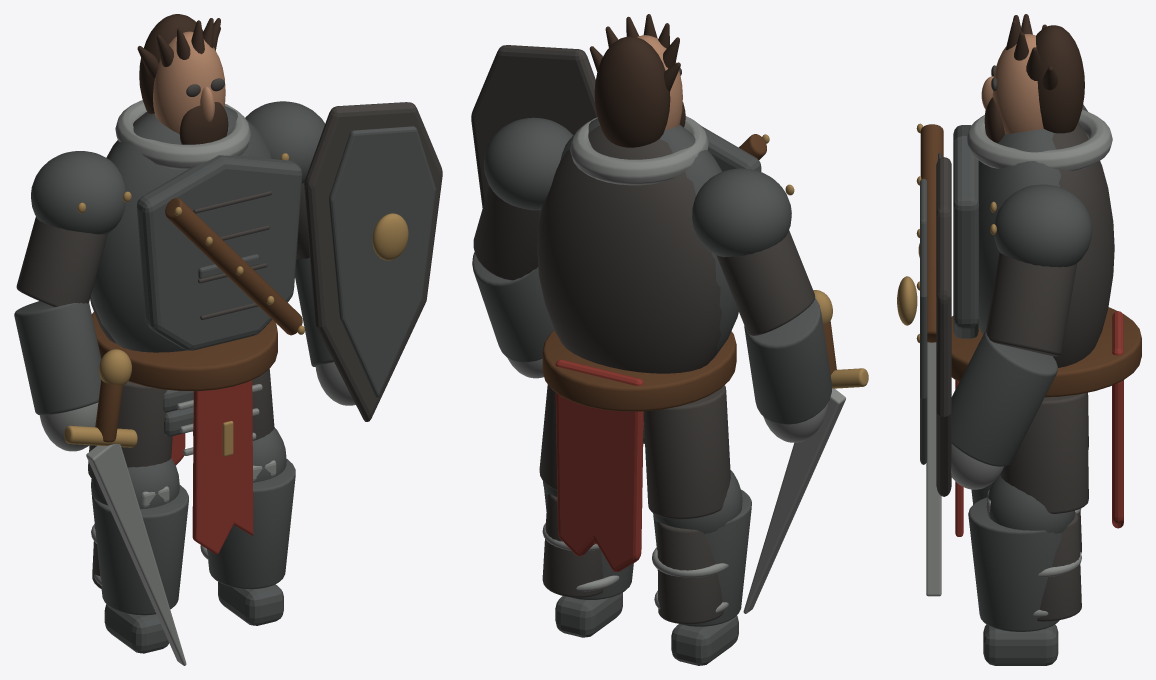
The model's file is warrior.glb.
3 renders of one model, left to right at view 1: azimuth 30°, elevation 25°; view 2: azimuth 150°, elevation 25°; view 3: azimuth 270°, elevation 25°, orthographic. The views are drawn at different scales.
Visible parts, largest first — view 1: breastplate, shield_field, kite_shield, cuirass_mass, tabard, left_vambrace, left_greave, belt, left_pauldron, right_greave, left_upper_arm, sword_blade (+21 smaller); view 2: padded_torso, rear_tabard, left_thigh, kite_shield, left_vambrace, belt, left_pauldron, hair_back, left_upper_arm, right_pauldron, left_shin, right_vambrace (+16 smaller); view 3: right_vambrace, right_greave, right_thigh, padded_torso, right_upper_arm, right_pauldron, kite_shield, breastplate, cuirass_mass, belt, hair_back, gorget (+13 smaller).
Part boxes in pixels (x1=…): breastplate: x1=137, y1=155, x2=302, y2=350; shield_field: x1=329, y1=126, x2=435, y2=397; kite_shield: x1=304, y1=102, x2=442, y2=421; cuirass_mass: x1=91, y1=106, x2=271, y2=352; tabard: x1=192, y1=380, x2=253, y2=554; left_vambrace: x1=14, y1=301, x2=101, y2=415; left_greave: x1=92, y1=485, x2=188, y2=615; belt: x1=91, y1=312, x2=277, y2=391; left_pauldron: x1=31, y1=151, x2=125, y2=234; right_greave: x1=207, y1=459, x2=295, y2=589; left_upper_arm: x1=16, y1=217, x2=107, y2=306; sword_blade: x1=86, y1=443, x2=186, y2=665; padded_torso: x1=537, y1=126, x2=721, y2=373; rear_tabard: x1=555, y1=359, x2=643, y2=571; left_thigh: x1=643, y1=385, x2=730, y2=519; kite_shield: x1=471, y1=45, x2=597, y2=207; left_vambrace: x1=744, y1=298, x2=831, y2=424; belt: x1=542, y1=330, x2=736, y2=411; left_pauldron: x1=692, y1=168, x2=791, y2=257; hair_back: x1=594, y1=36, x2=670, y2=147; left_upper_arm: x1=716, y1=230, x2=815, y2=335; right_pauldron: x1=483, y1=117, x2=573, y2=210; left_shin: x1=657, y1=522, x2=723, y2=624; right_vambrace: x1=472, y1=252, x2=554, y2=362; right_vambrace: x1=951, y1=331, x2=1057, y2=466; right_greave: x1=968, y1=497, x2=1062, y2=631; right_thigh: x1=1000, y1=393, x2=1088, y2=513; padded_torso: x1=1052, y1=122, x2=1114, y2=367; right_upper_arm: x1=986, y1=252, x2=1076, y2=356; right_pauldron: x1=994, y1=184, x2=1092, y2=267; kite_shield: x1=936, y1=157, x2=951, y2=496; breastplate: x1=953, y1=125, x2=978, y2=338; cuirass_mass: x1=979, y1=128, x2=1060, y2=334; belt: x1=951, y1=307, x2=1141, y2=397; hair_back: x1=1036, y1=25, x2=1084, y2=133; gorget: x1=967, y1=109, x2=1112, y2=170.
Size of the model in its own units: 1.29 by 1.98 by 0.718.
